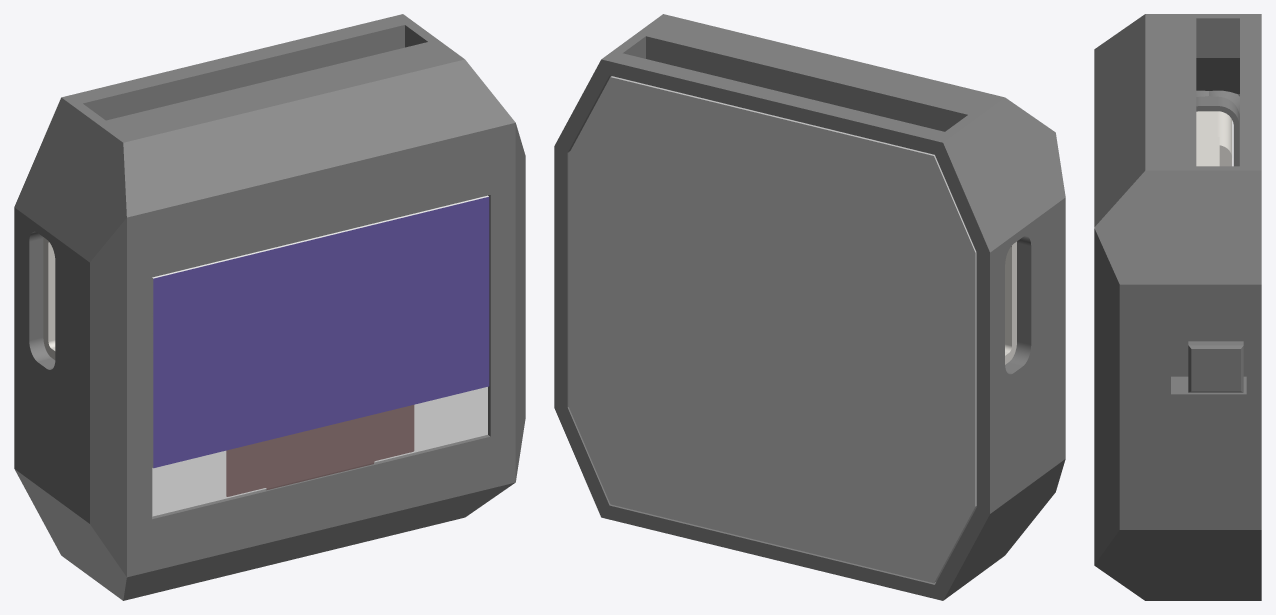
File: smart-watch.glb
3 renders of one model, left to right at view 1: azimuth 30°, elevation 25°; view 2: azimuth 150°, elevation 25°; view 3: azimuth 270°, elevation 25°, orthographic. The views are drawn at different scales.
Visible parts, largest first — view 1: Case, Body1, Body1.001; view 2: Body6, Case, Body1.001; view 3: Case, Button, Body1.001.
Part boxes in pixels (box(x1,y1,x2,y2)): Case: box(14, 14, 525, 600); Body1: box(152, 195, 489, 516); Body1.001: box(43, 237, 55, 359); Body6: box(569, 76, 976, 583); Case: box(554, 14, 1065, 600); Body1.001: box(1005, 241, 1016, 364); Case: box(1094, 14, 1261, 600); Button: box(1188, 341, 1243, 392); Body1.001: box(1196, 111, 1232, 166).
Bounding box in the file's own units: 0.0329 × 0.0326 × 0.0115.
